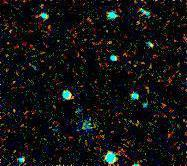star: (95, 29, 125, 59)
